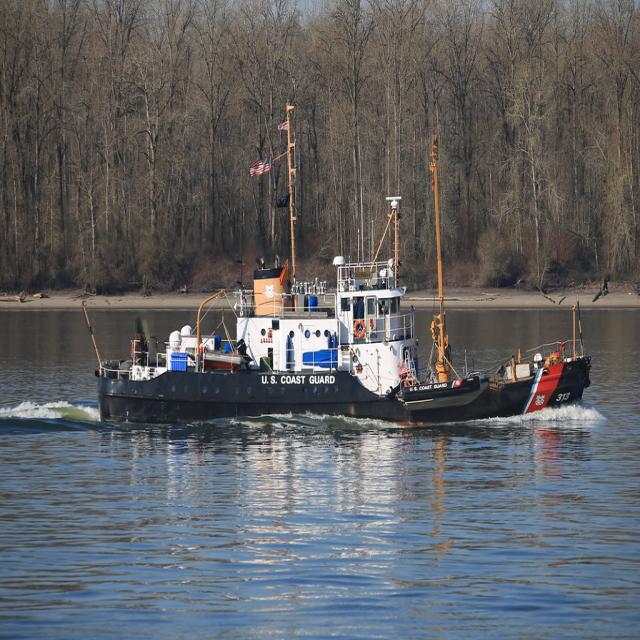fishing boat: (98, 149, 586, 424)
